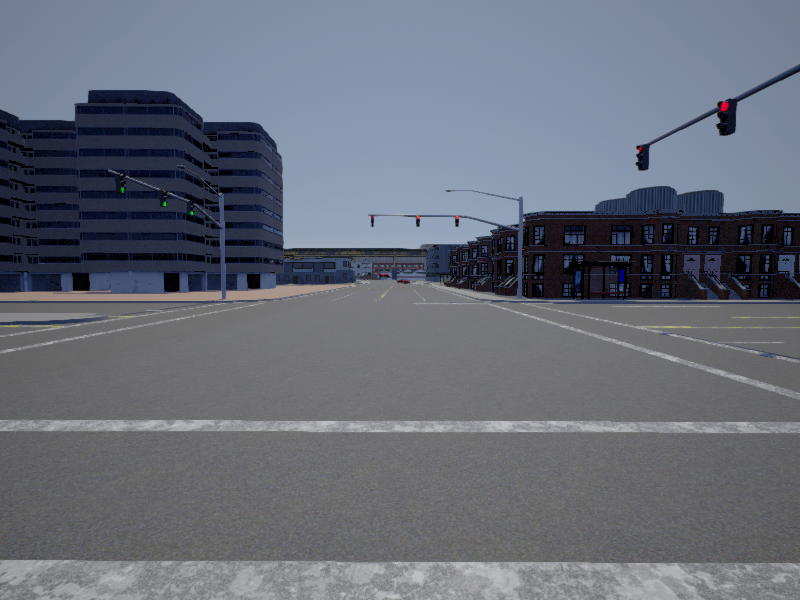Attacker: (377, 272, 391, 278)
Benign: (397, 278, 412, 285)
